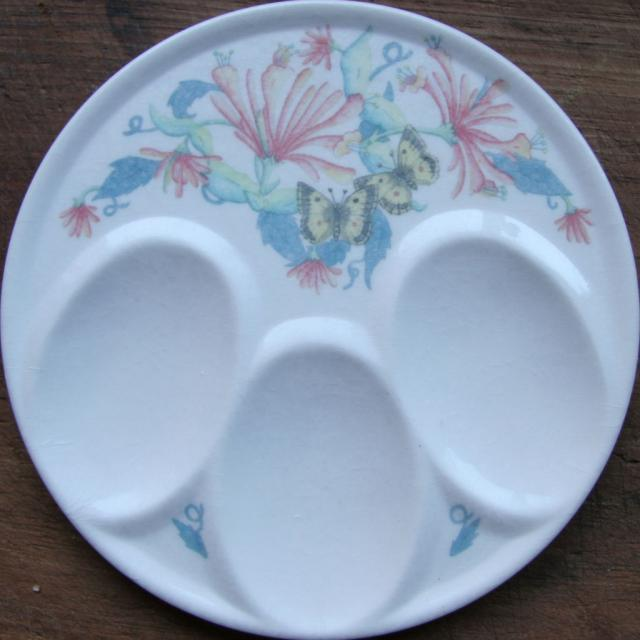non-organic waste: (14, 9, 640, 640)
